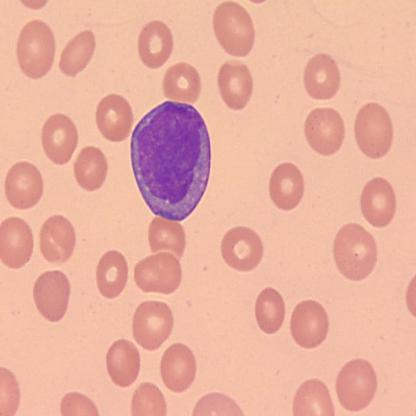Promyelocyte: (130, 95, 214, 222)
